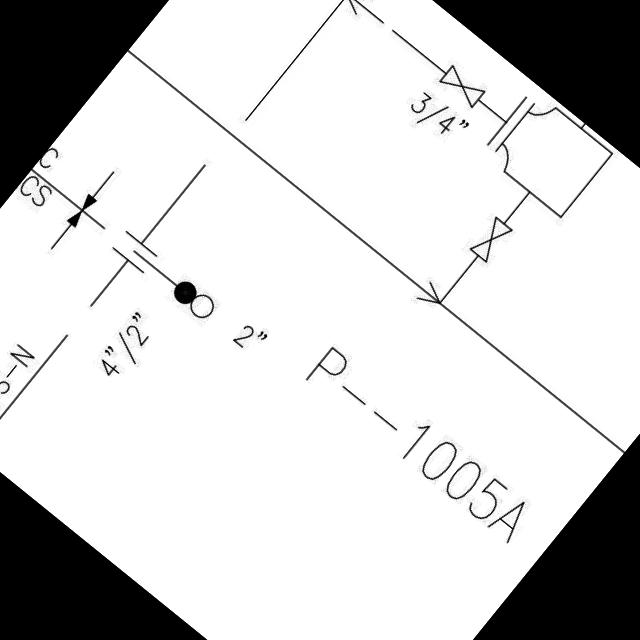GV: (464, 209, 518, 266), (435, 61, 491, 112)
